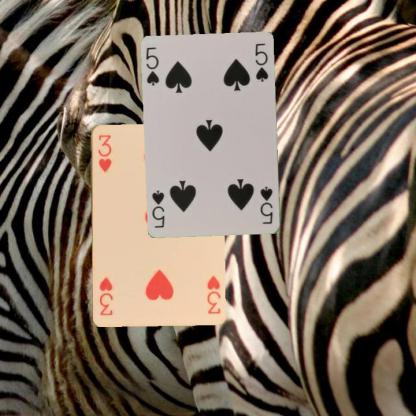3h: (94, 132, 112, 172), (204, 273, 221, 315)
5s: (144, 44, 160, 87), (258, 184, 274, 225)
